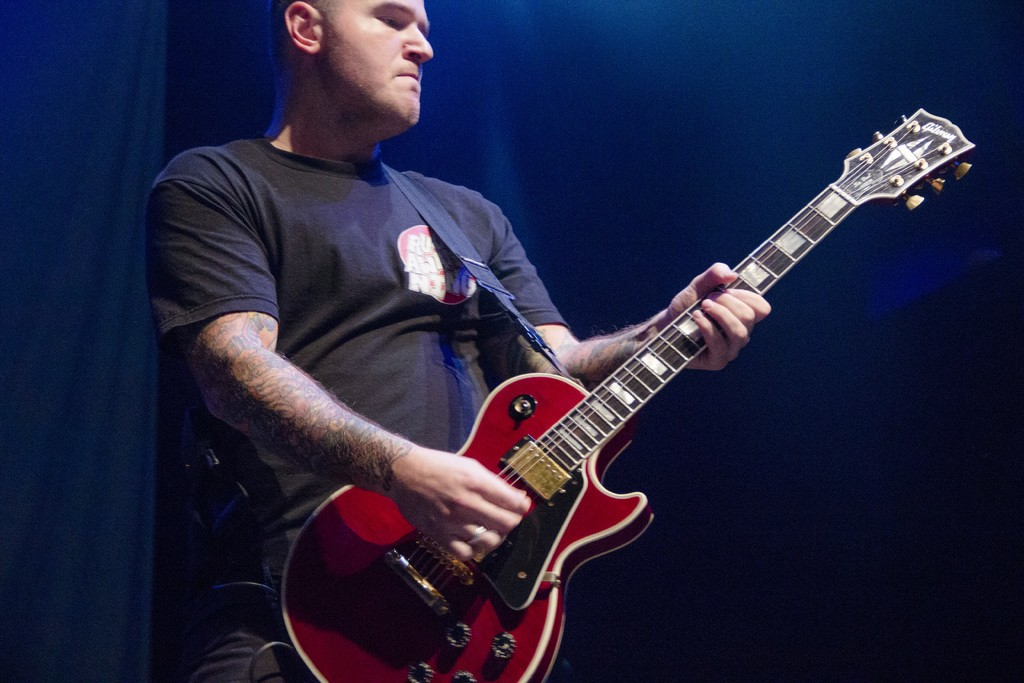guitar: (281, 109, 976, 683)
